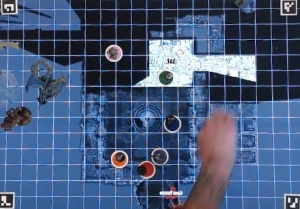blue: (159, 113, 186, 134)
green: (154, 69, 176, 88)
orange: (107, 148, 131, 169)
pink: (101, 42, 124, 63)
red: (136, 158, 157, 177)
violet: (151, 145, 171, 165)
